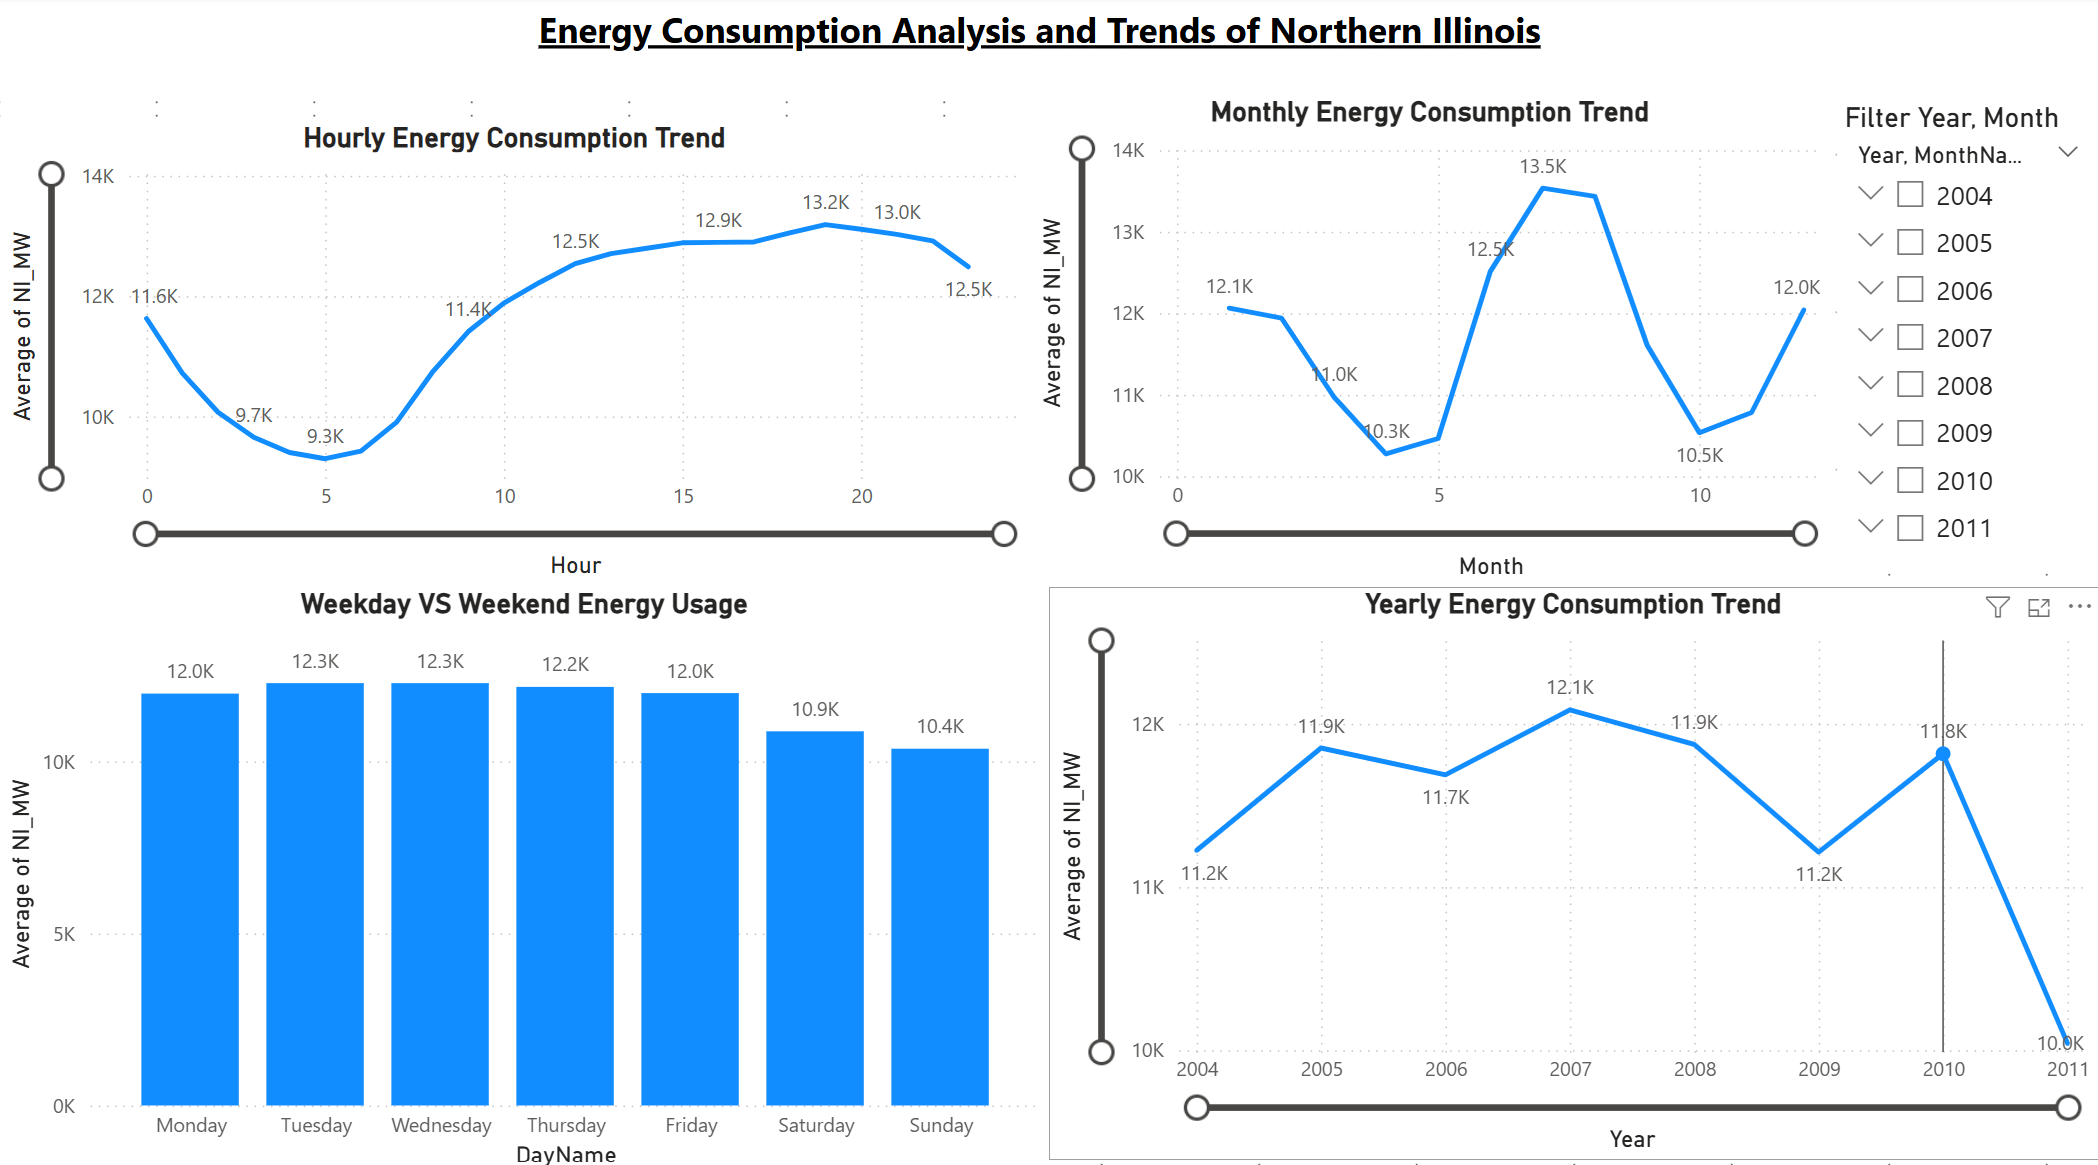

The page's visual inventory and layout, read from the dashboard file:
{"tool":"powerbi","page":{"name":"Page 1","canvas":[1280,720],"ordinal":0},"visuals":[{"type":"lineChart","title":"Hourly Energy Consumption Trend","fields":{"Y":["Avg(NI_hourly_cleaned.NI_MW)"],"Category":["NI_hourly_cleaned.Hour"]},"box":[0,76.1,628.3,284],"z":0},{"type":"clusteredColumnChart","title":"Weekday VS Weekend Energy Usage","fields":{"Y":["Avg(NI_hourly_cleaned.NI_MW)"],"Category":["NI_hourly_cleaned.DayName"]},"box":[0,360.1,640.4,358.9],"z":1000},{"type":"lineChart","title":"Monthly Energy Consumption Trend","fields":{"Y":["Avg(NI_hourly_cleaned.NI_MW)"],"Category":["NI_hourly_cleaned.Month"]},"box":[628.3,60.4,488.2,299.7],"z":2000},{"type":"lineChart","title":"Yearly Energy Consumption Trend","fields":{"Category":["NI_hourly_cleaned.Year"],"Y":["Avg(NI_hourly_cleaned.NI_MW)"]},"box":[640.4,360.1,639.2,349.2],"z":3000},{"type":"slicer","title":"Filter Year, Month","fields":{"Values":["NI_hourly_cleaned.Year","NI_hourly_cleaned.MonthName"]},"box":[1120,64,160,288],"z":4000},{"type":"textbox","box":[0,0,1268.5,60.3],"z":5000}]}

Visuals, with their boxes in screenshot pixels (x1, y1, x2, y2), scaled from the page's 1280x720 canvas onto the 2098x1165 screenshot:
"Hourly Energy Consumption Trend" lineChart: locate(0, 123, 1030, 583)
"Weekday VS Weekend Energy Usage" clusteredColumnChart: locate(0, 583, 1050, 1163)
"Monthly Energy Consumption Trend" lineChart: locate(1030, 98, 1830, 583)
"Yearly Energy Consumption Trend" lineChart: locate(1050, 583, 2097, 1148)
"Filter Year, Month" slicer: locate(1836, 104, 2097, 570)
textbox: locate(0, 0, 2079, 98)
